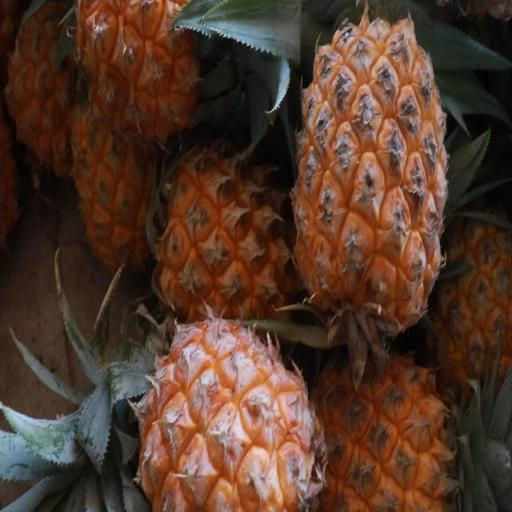Pineapple - v8 v1: (291, 2, 454, 366), (125, 305, 342, 509), (150, 114, 306, 332), (64, 0, 260, 154), (294, 338, 464, 512), (430, 194, 512, 404)
